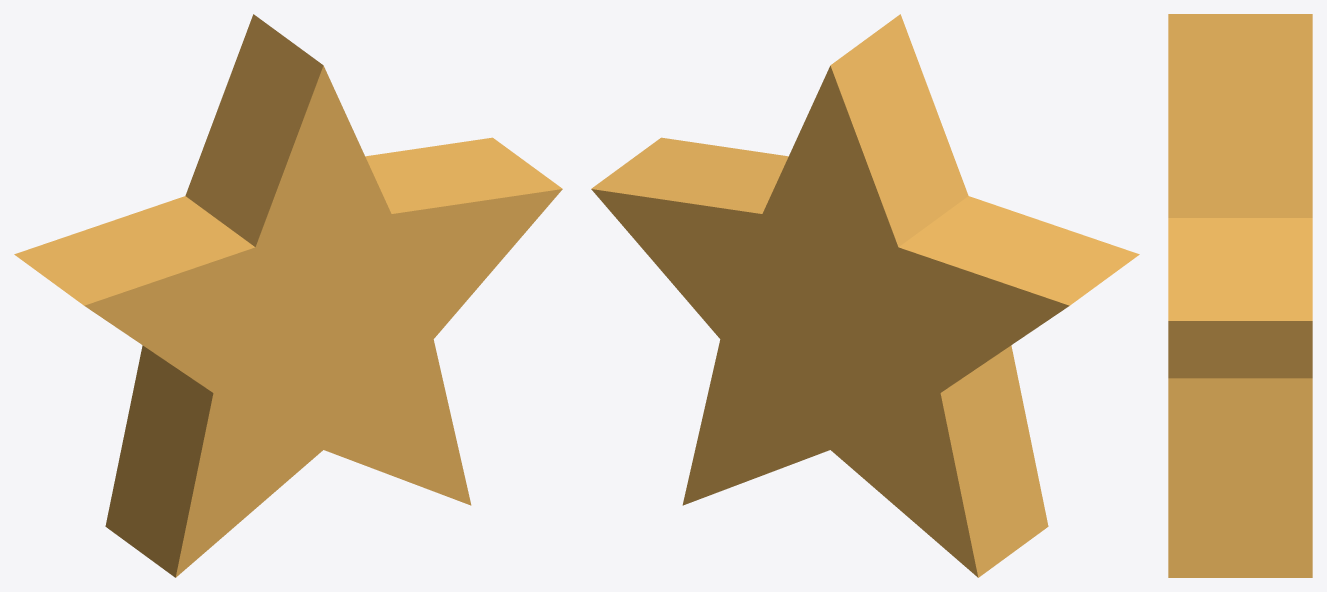
File: star.glb
3 renders of one model, left to right at view 1: azimuth 30°, elevation 25°; view 2: azimuth 150°, elevation 25°; view 3: azimuth 270°, elevation 25°, orthographic. The views are drawn at different scales.
Parts seen in each view (by area): view 1: Collectible; view 2: Collectible; view 3: Collectible.
Part boxes in pixels (bbox=[...]): Collectible: bbox=[14, 14, 562, 577]; Collectible: bbox=[591, 14, 1139, 577]; Collectible: bbox=[1168, 14, 1312, 577].
Size of the model in its own units: 0.5516 by 0.5246 by 0.14.
